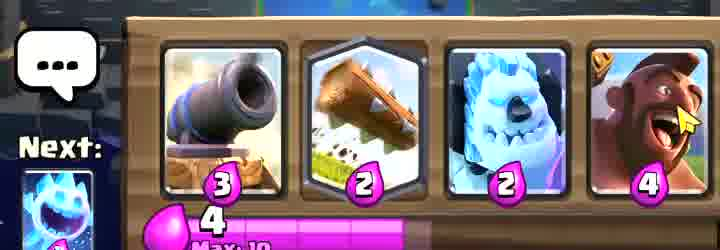cannon: (170, 50, 283, 197)
hog-rider: (588, 53, 703, 198)
ice-golem: (447, 53, 561, 197)
ice-spirit: (24, 171, 93, 250)
log: (309, 44, 422, 195)
